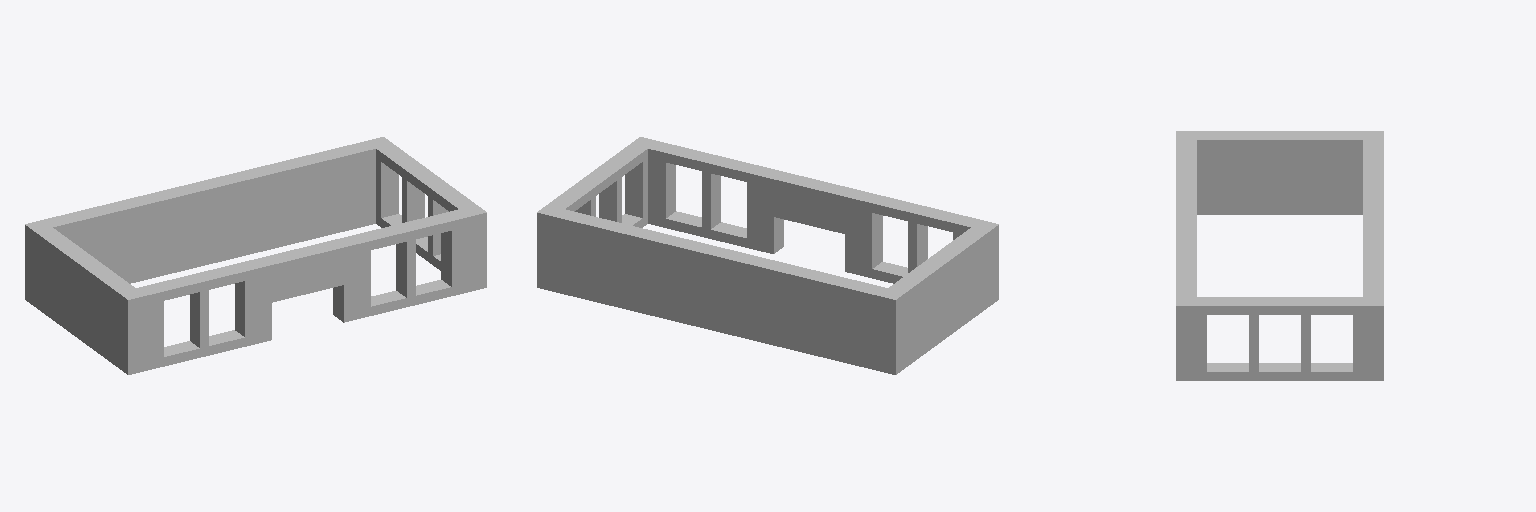
File: rothenburg_10_5_upper_style02.obj
The picture shows the model from 3 angles: view 1: azimuth 30°, elevation 25°; view 2: azimuth 150°, elevation 25°; view 3: azimuth 270°, elevation 25°; orthographic projection.
Visible parts, largest first — view 1: rothenburg_upper_YNG_XPS; view 2: rothenburg_upper_YNG_XPS; view 3: rothenburg_upper_YNG_XPS.
Boxes of the visible parts, x1,y1,x2,y2 form: rothenburg_upper_YNG_XPS: [25, 137, 486, 374]; rothenburg_upper_YNG_XPS: [537, 137, 998, 374]; rothenburg_upper_YNG_XPS: [1176, 131, 1383, 380].
Bounding box in the file's own units: 10 × 2 × 5.